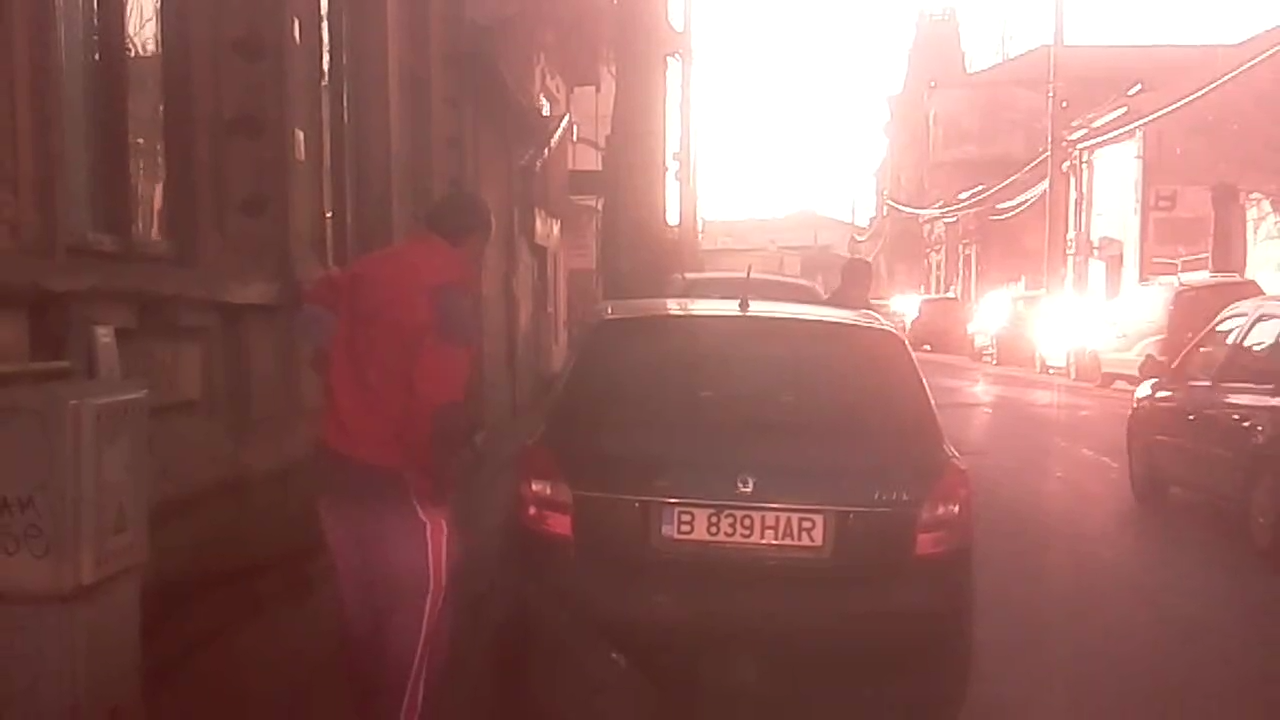license-plate: (656, 497, 831, 552)
